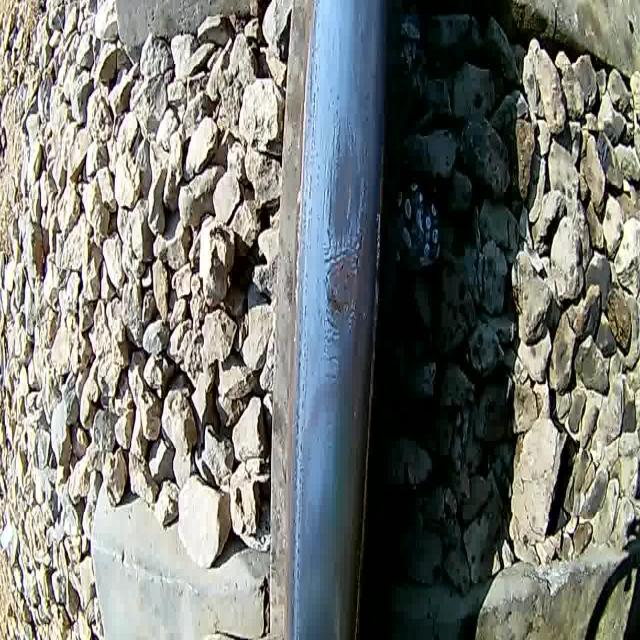Cracks: (351, 222, 369, 281)
Squats: (314, 104, 372, 350)
